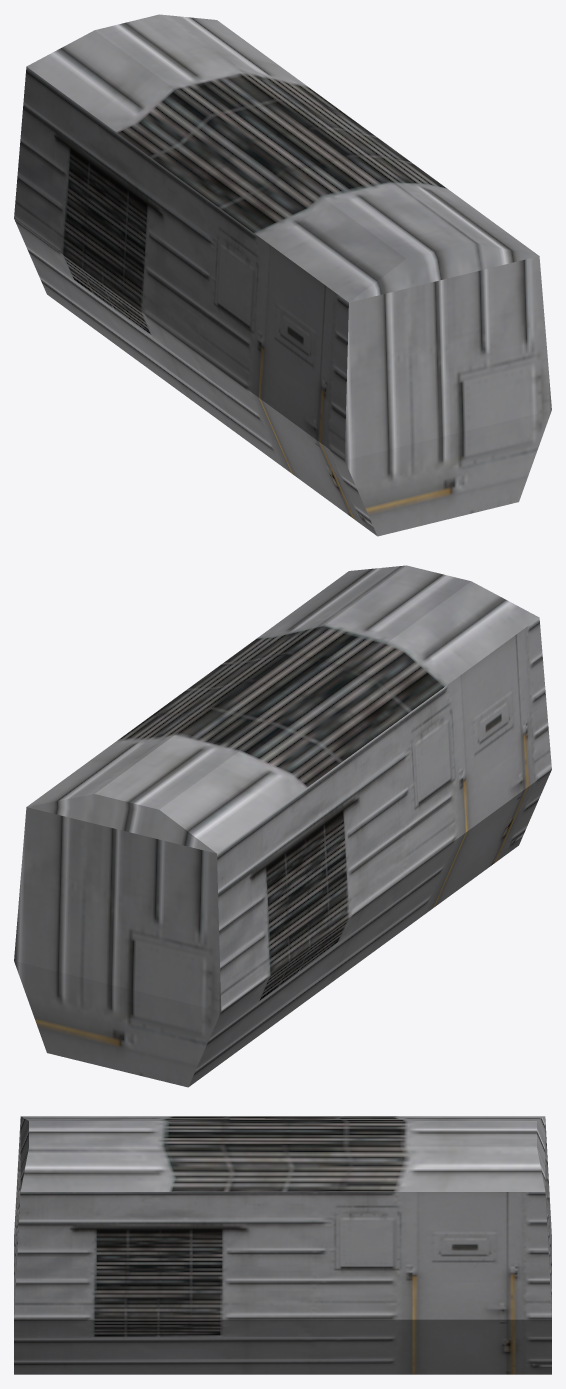
Rendered from traintemp.obj.
The picture shows the model from 3 angles, top to bottom: view 1: azimuth 30°, elevation 25°; view 2: azimuth 150°, elevation 25°; view 3: azimuth 270°, elevation 25°; orthographic projection. The views are drawn at different scales.
Visible parts, largest first — view 1: Cube; view 2: Cube; view 3: Cube.
Boxes of the visible parts, x1,y1,x2,y2 form: Cube: (14,14,551,536); Cube: (14,565,551,1087); Cube: (14,1116,551,1374).
Bounding box in the file's own units: 1.45 × 1.75 × 4.
1 material, 1 textured.
